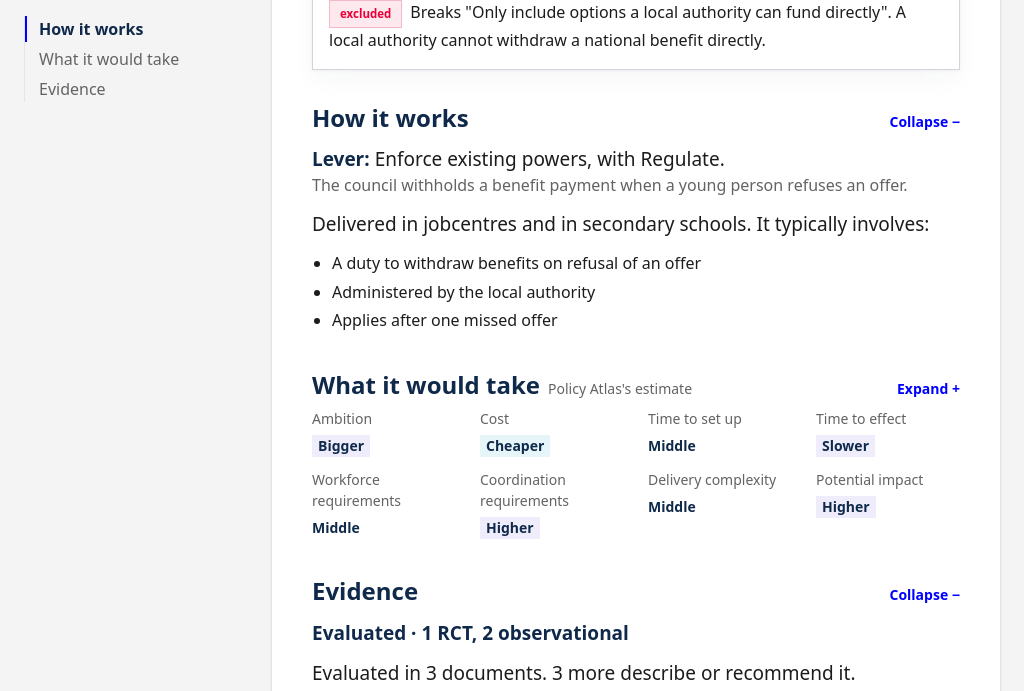
Scenario: OptionCard › puts the authority word and sentence on the Who decides row
(page scrolled)
Click the button "What it would take": (636, 385) [312,369,960,400]
(page scrolled)
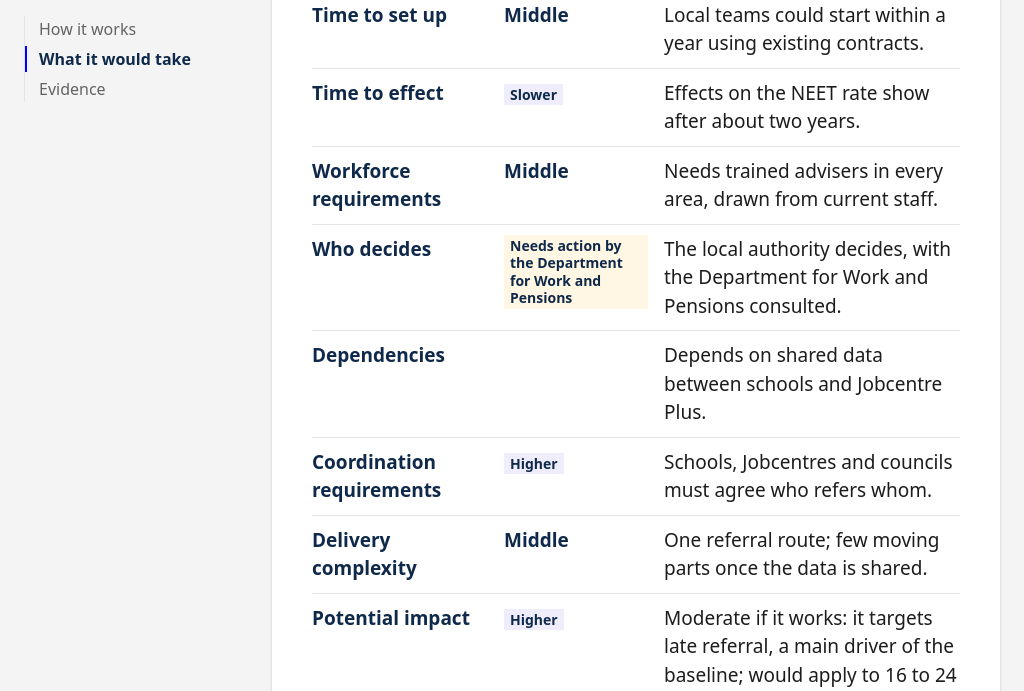
Expected: the row "Dependencies" does not show "Needs action by", [312,331,960,437]
Expected: the text "Needs action by the Department for Work and Pensions" is shown, [504,235,648,309]
Expected: the text "The local authority decides, with the Department for Work and Pensions consulted." is shown, [664,236,951,319]
